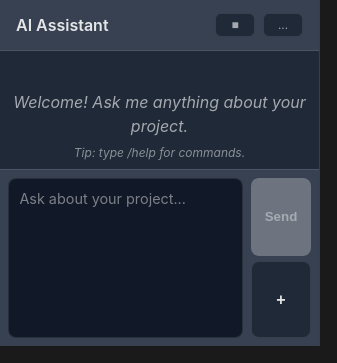
ChatPanel › Basic Rendering › shows clear pending actions while halted and clears pending state when clicked
Click the button with test id "chat-autofix-toggle" at (235, 25), box [215,13,255,37]
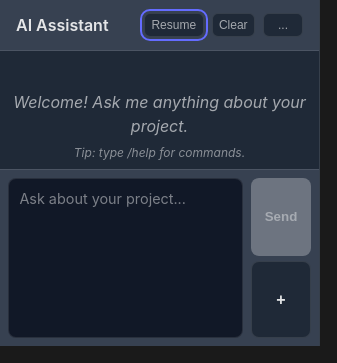
Now the button with test id "chat-autofix-clear" is shown
Click the button with test id "chat-autofix-clear" at (233, 25), box [212,13,255,37]
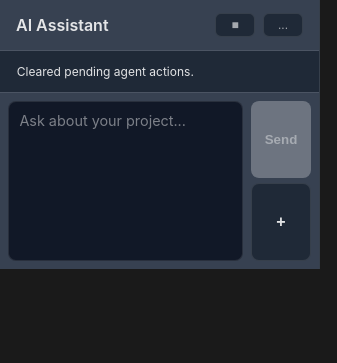
Now the button with test id "chat-autofix-toggle" reads "■", box [215,13,255,37]
Now the button with test id "chat-autofix-clear" is gone
Now the text "Cleared pending agent actions." is shown, box [17,64,194,79]
